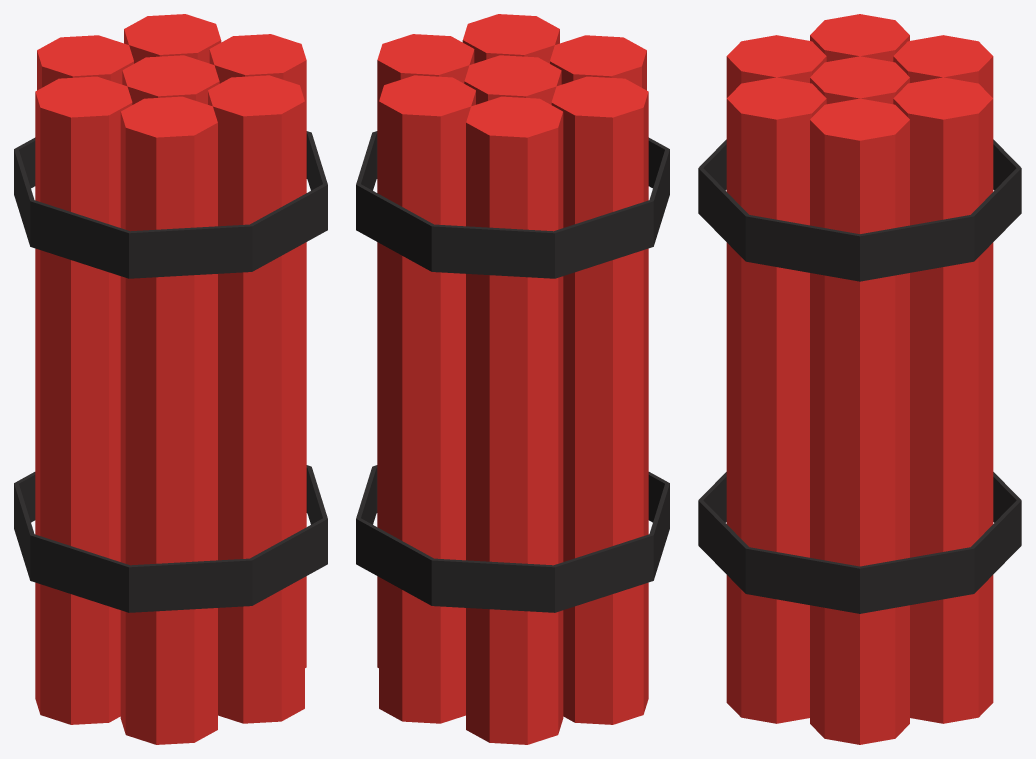
The model's file is Dynamite.fbx.
3 renders of one model, left to right at view 1: azimuth 30°, elevation 25°; view 2: azimuth 150°, elevation 25°; view 3: azimuth 270°, elevation 25°, orthographic.
Visible parts, largest first — view 1: Extrude_2; view 2: Extrude_2; view 3: Extrude_2.
Boxes of the visible parts, left/top/right/bottom form: Extrude_2: left=14, top=14, right=327, bottom=744; Extrude_2: left=356, top=14, right=669, bottom=744; Extrude_2: left=698, top=14, right=1021, bottom=744.
Bounding box in the file's own units: 19.4 × 40 × 19.4.
